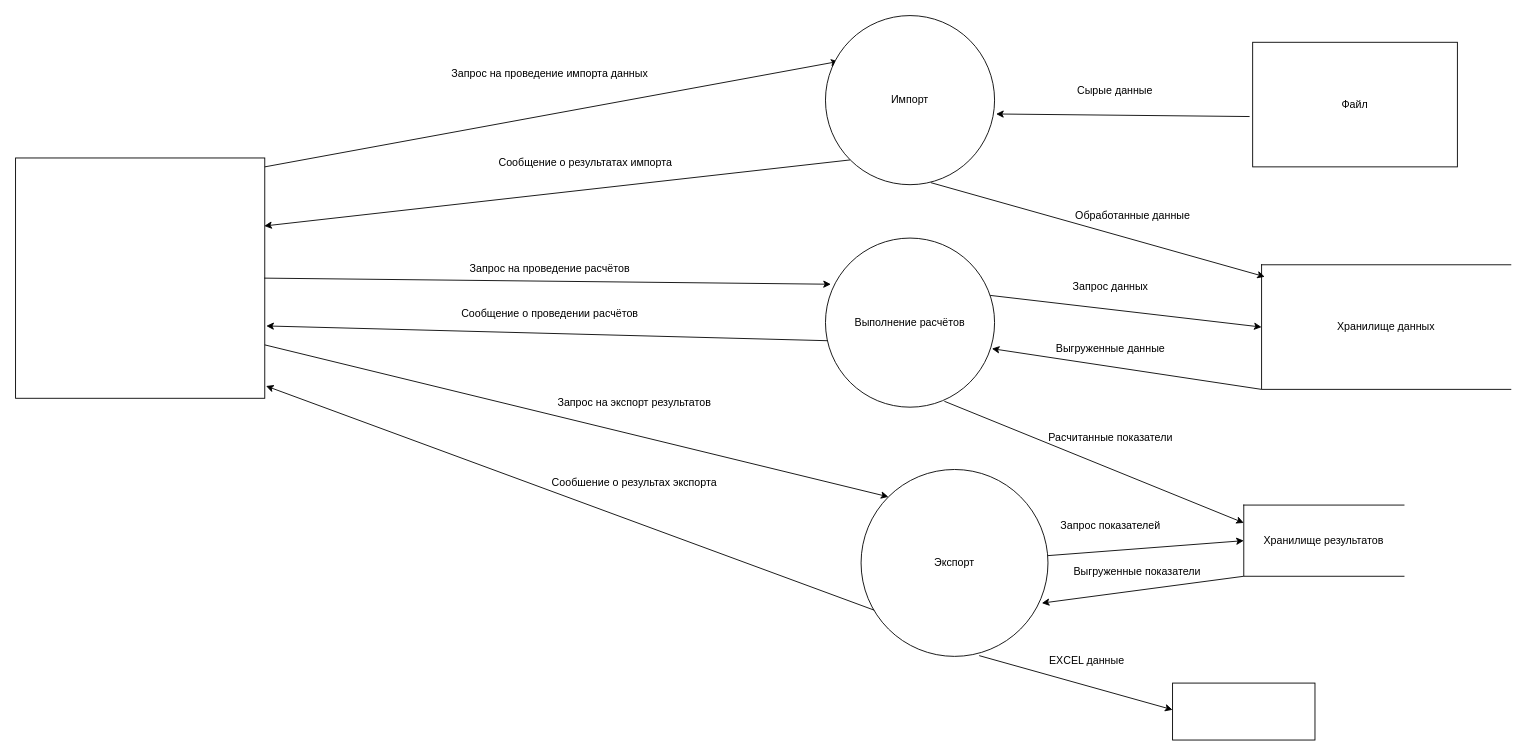
This 1526x756 diagram has some shape labels left out. The shapes that lost their labels are listed below. From the top down, each one's centre as x and y in pixels, then its label:
At [140,277]: "Человек".
At [1243,711]: "Файл - результат".
